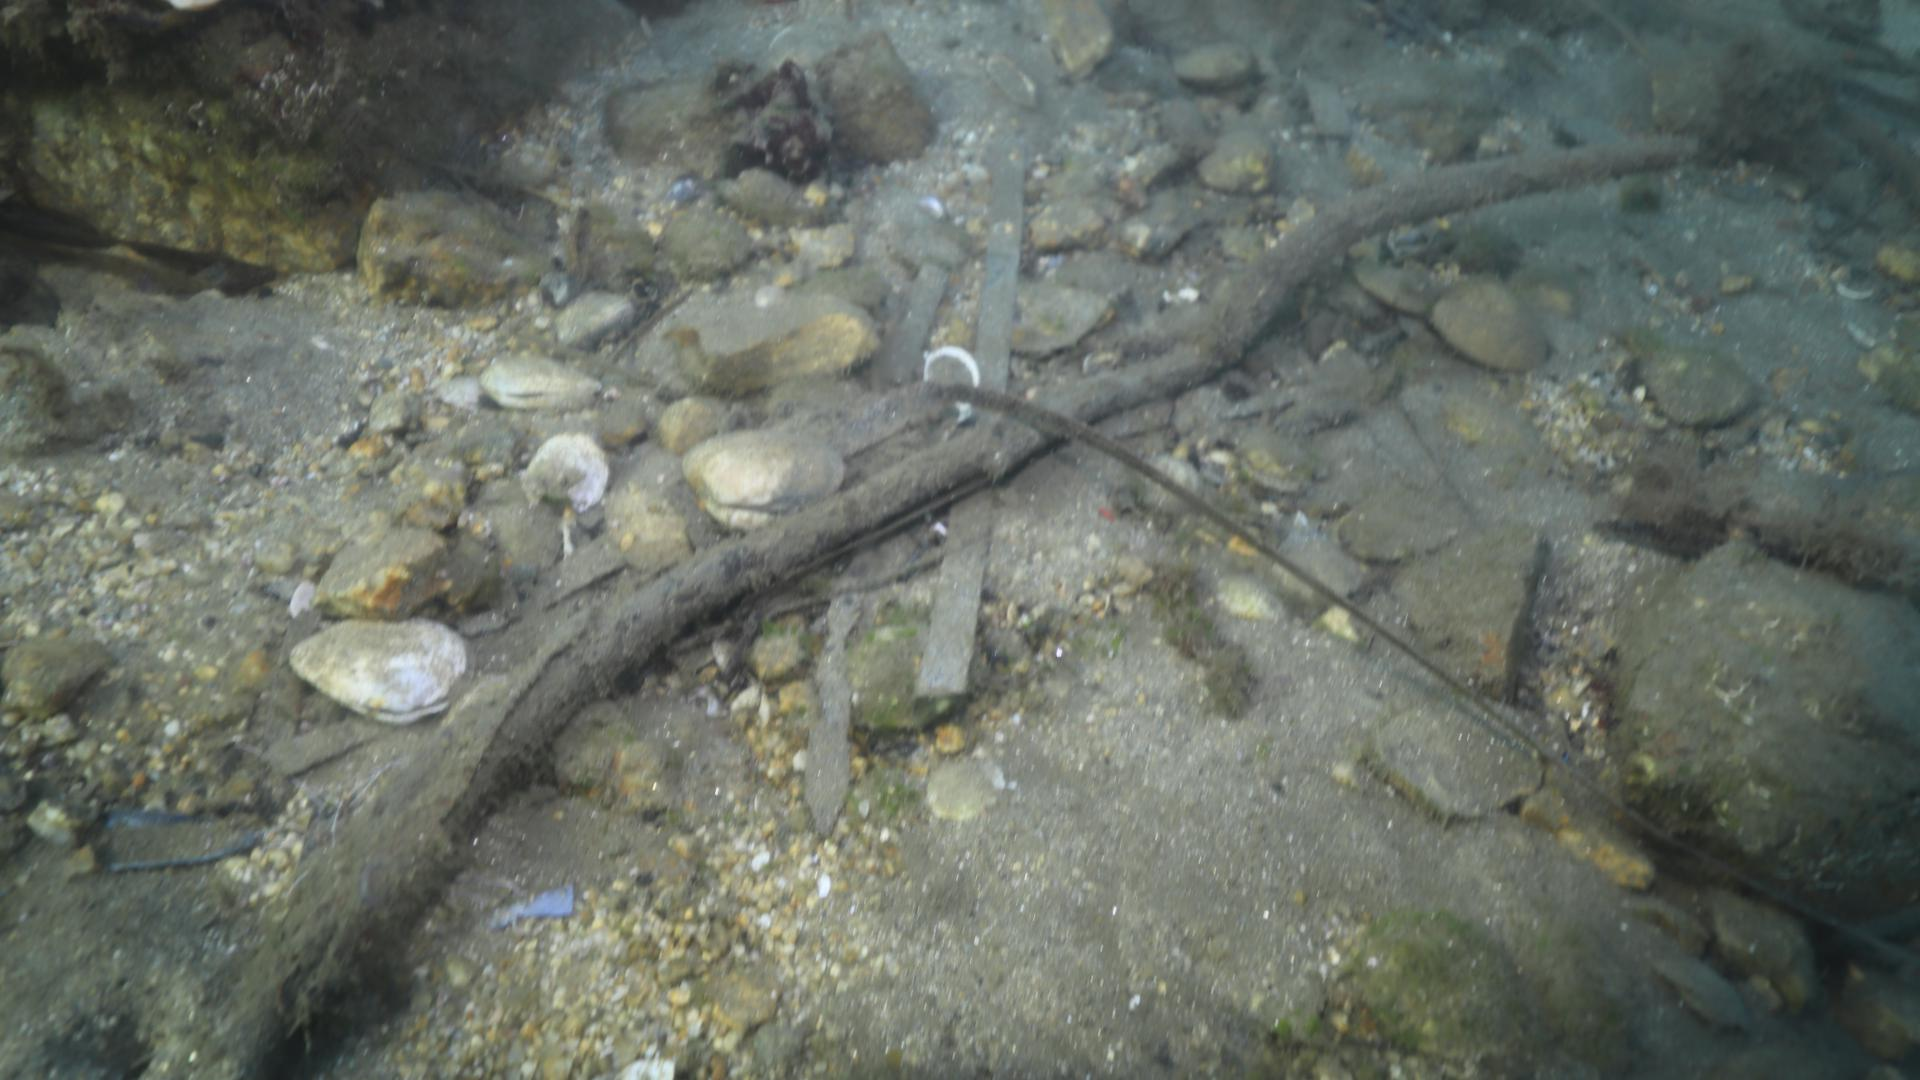wood: (154, 131, 1698, 1080)
